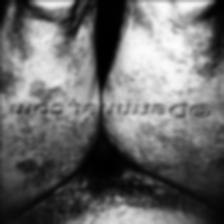Unclassified: (0, 70, 27, 96), (24, 158, 46, 174)
